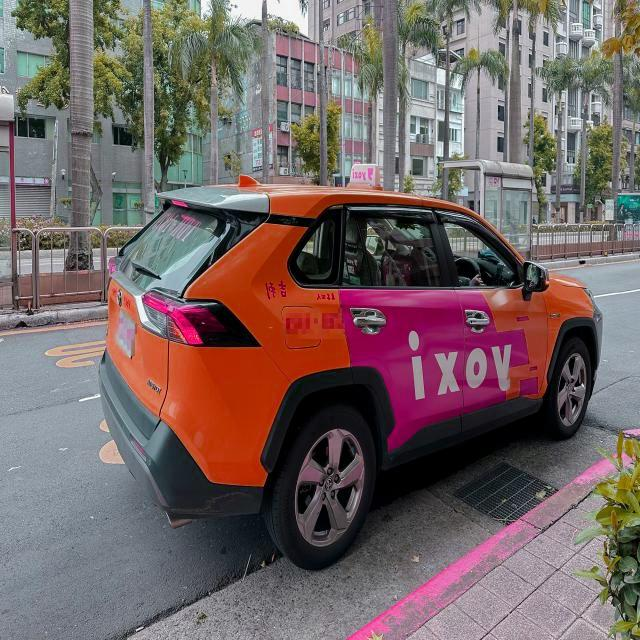taxi: (74, 145, 601, 607)
